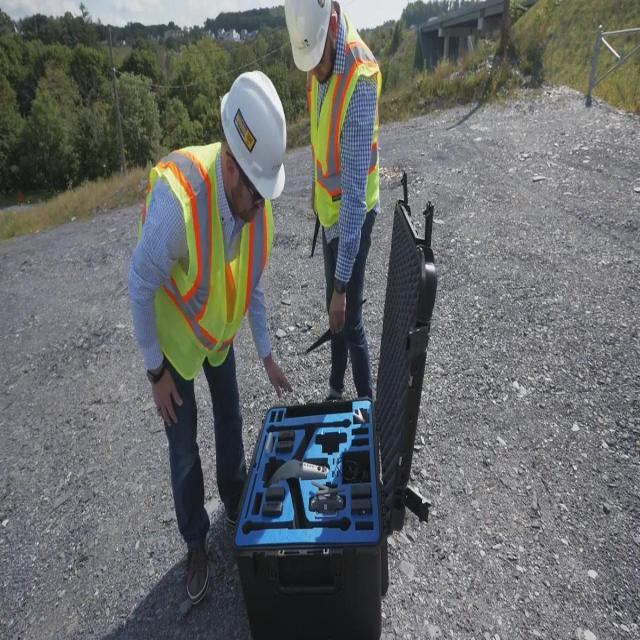Reflective-Jacket: (133, 139, 268, 384), (304, 36, 388, 233)
Safety-Helmet: (218, 62, 290, 207), (281, 1, 337, 75)
